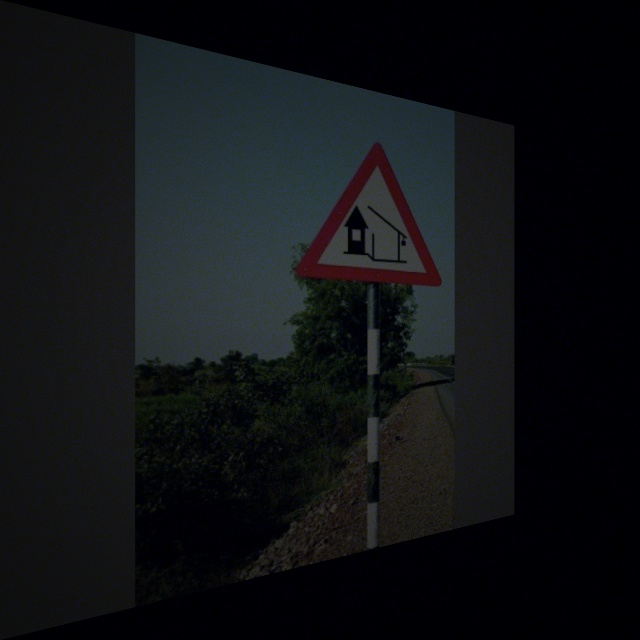Barrier_Ahead: (295, 127, 441, 295)
